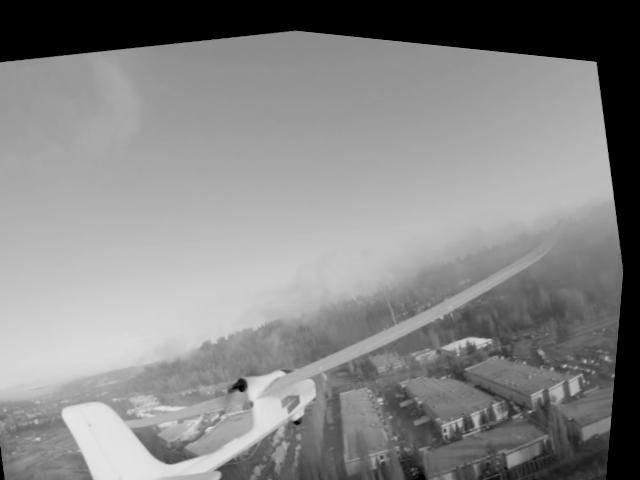hedef: (0, 143, 631, 480)
